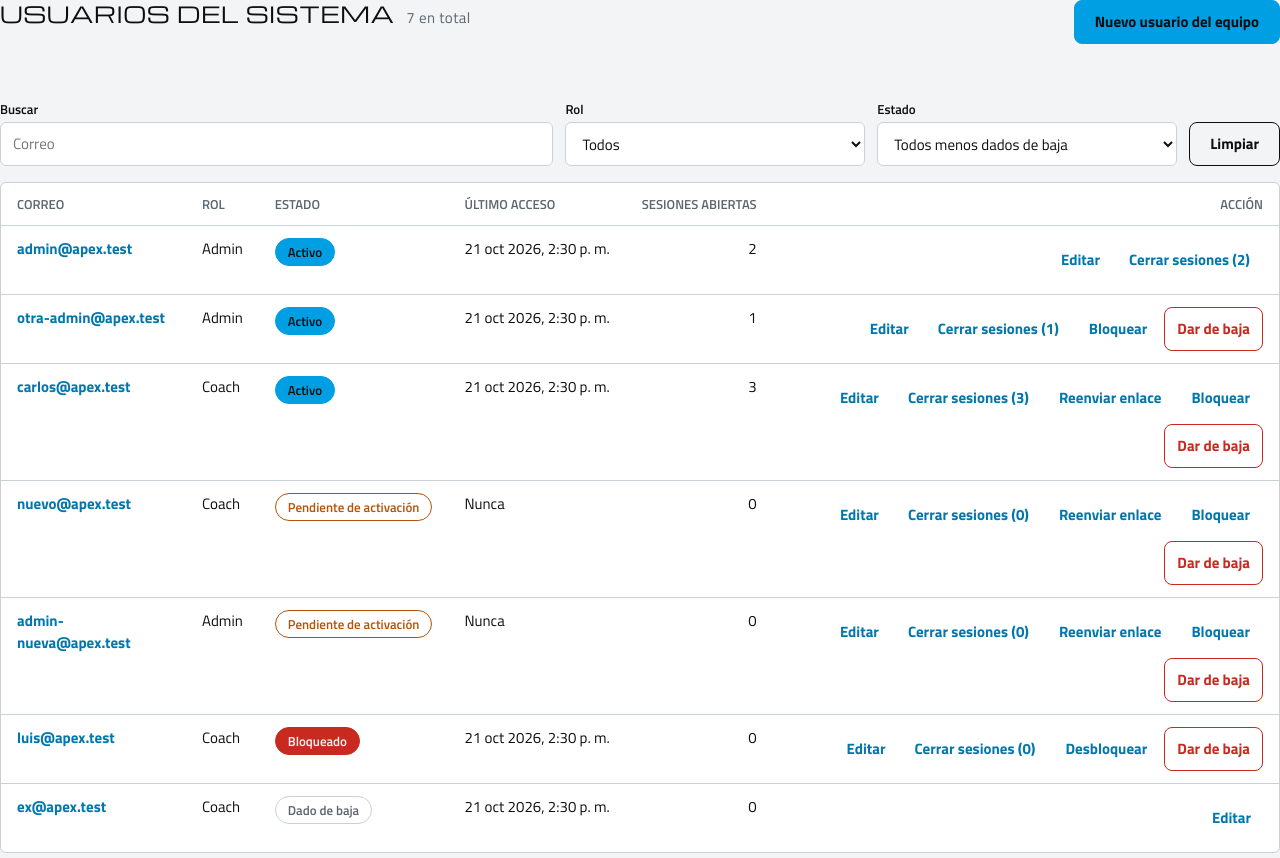
Test: UsersPage · desbloquear (US-051) › pide confirmación y hace POST /users/{id}/unlock
Click the button "Desbloquear".
click(1106, 749)  # box [1052,727,1160,771]
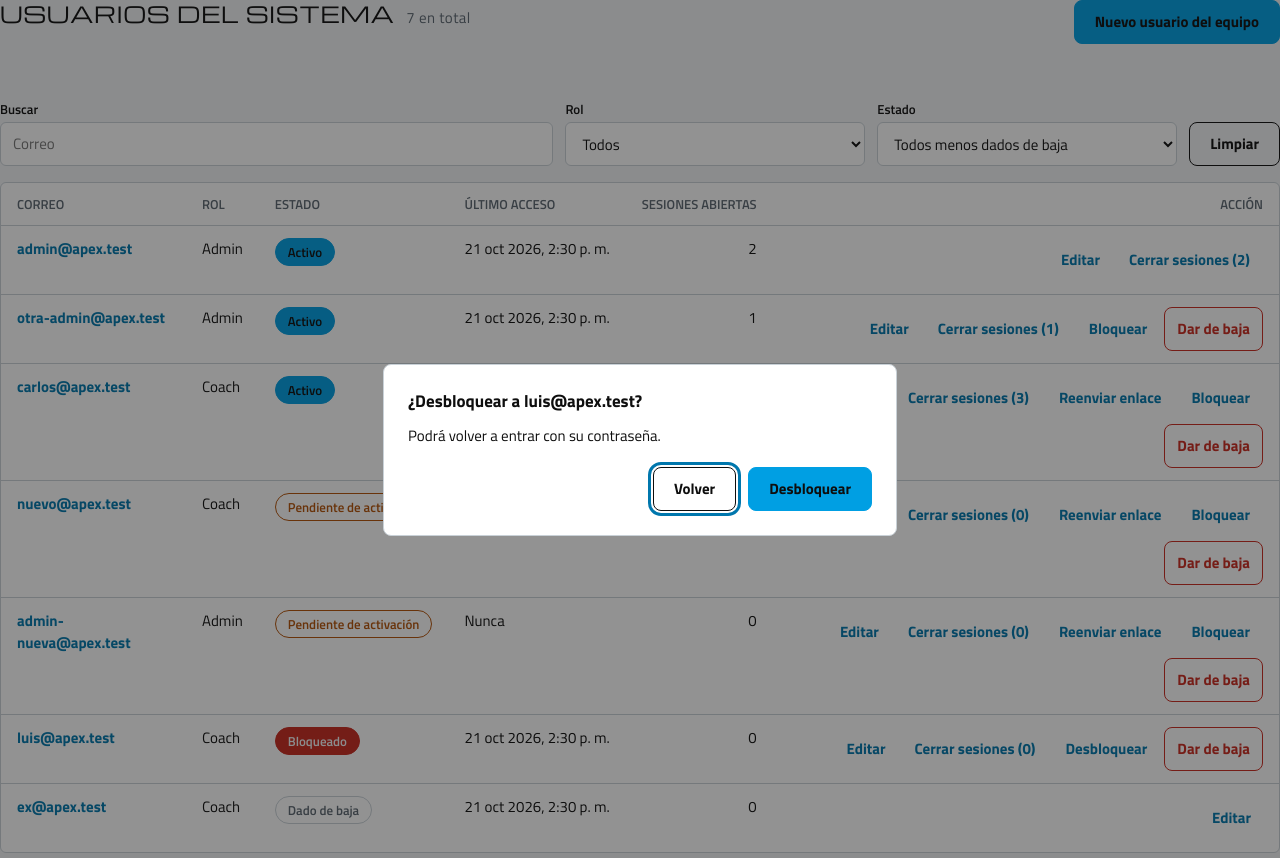
Click the button "Desbloquear".
click(810, 489)  # box [748,467,872,511]
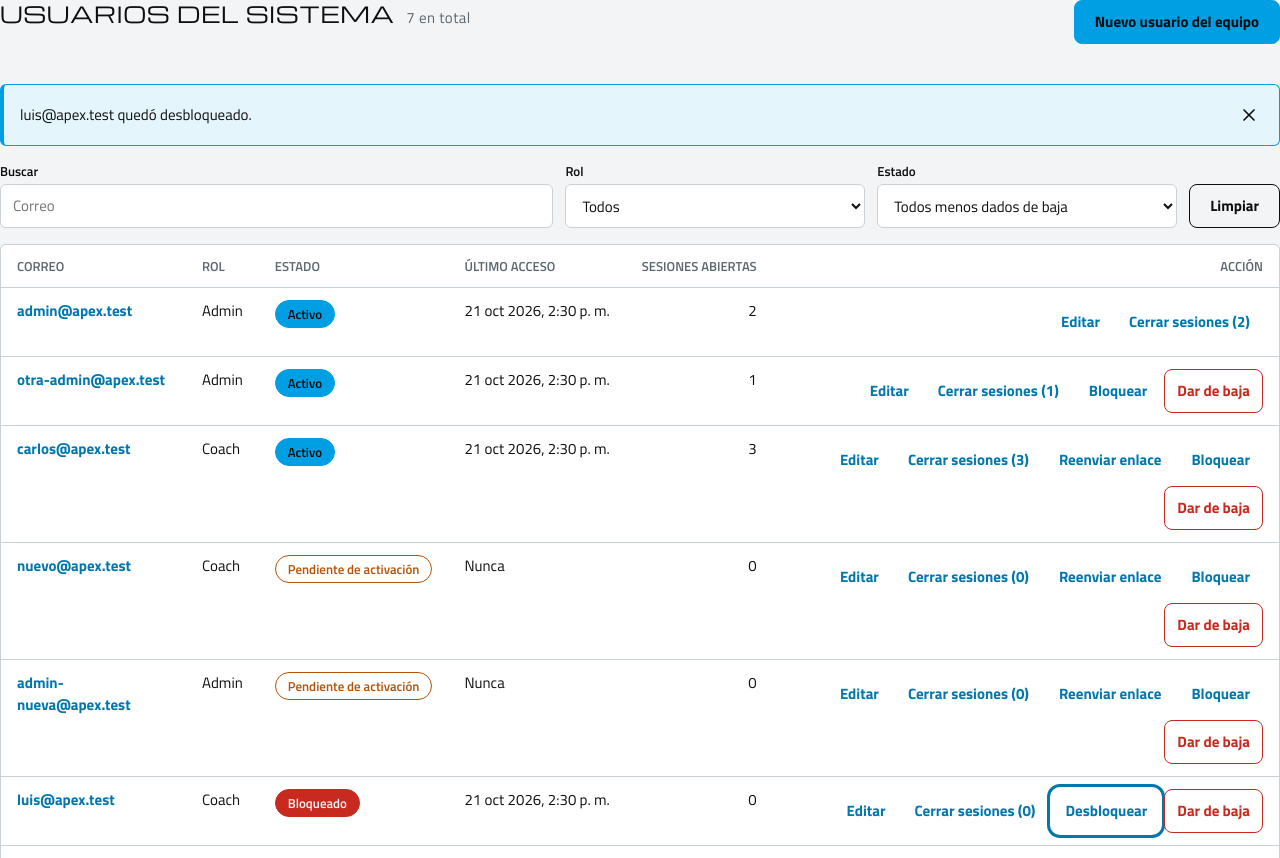
Result: the dialog is gone
